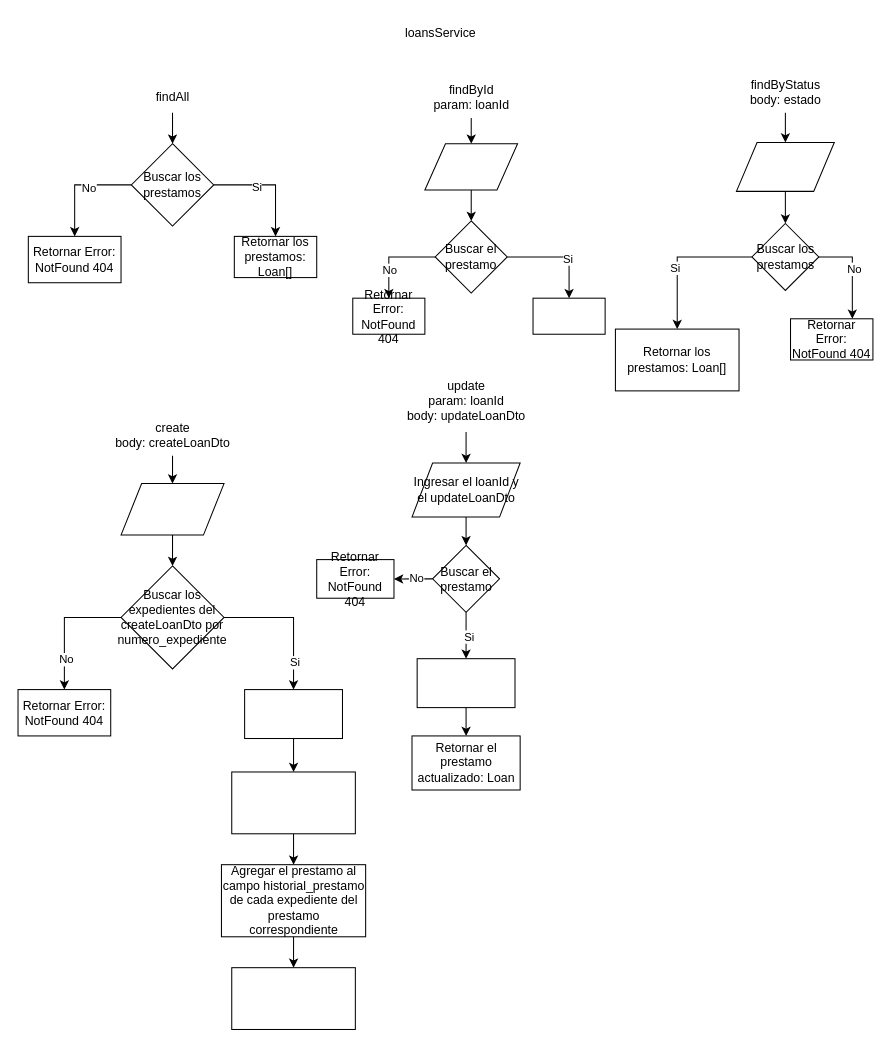
This 891x1048 diagram has some shape labels left out. The box of each missing label's shape, as (x1, y1, x2, y2) in pixels:
Agreagar los expedientes al prestamo: (244, 689, 342, 739)
Ingresar el createLoanDto: (120, 483, 224, 535)
Ingresar el estado: (735, 141, 834, 191)
Ingresar el loanId: (424, 143, 518, 190)
Retornar el nuevo prestamo: Loan: (231, 967, 355, 1029)
Retornar el prestamo: Loan: (532, 297, 605, 334)
Validar el updateLoanDto y actualizar el prestamo: (416, 658, 515, 708)
Validar los datos de createLoanDto y crear el prestamo: (231, 771, 355, 834)
